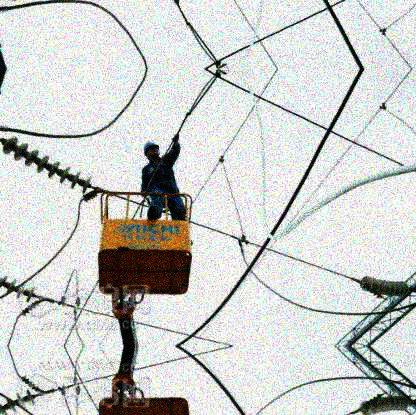helmet: (142, 139, 162, 161)
